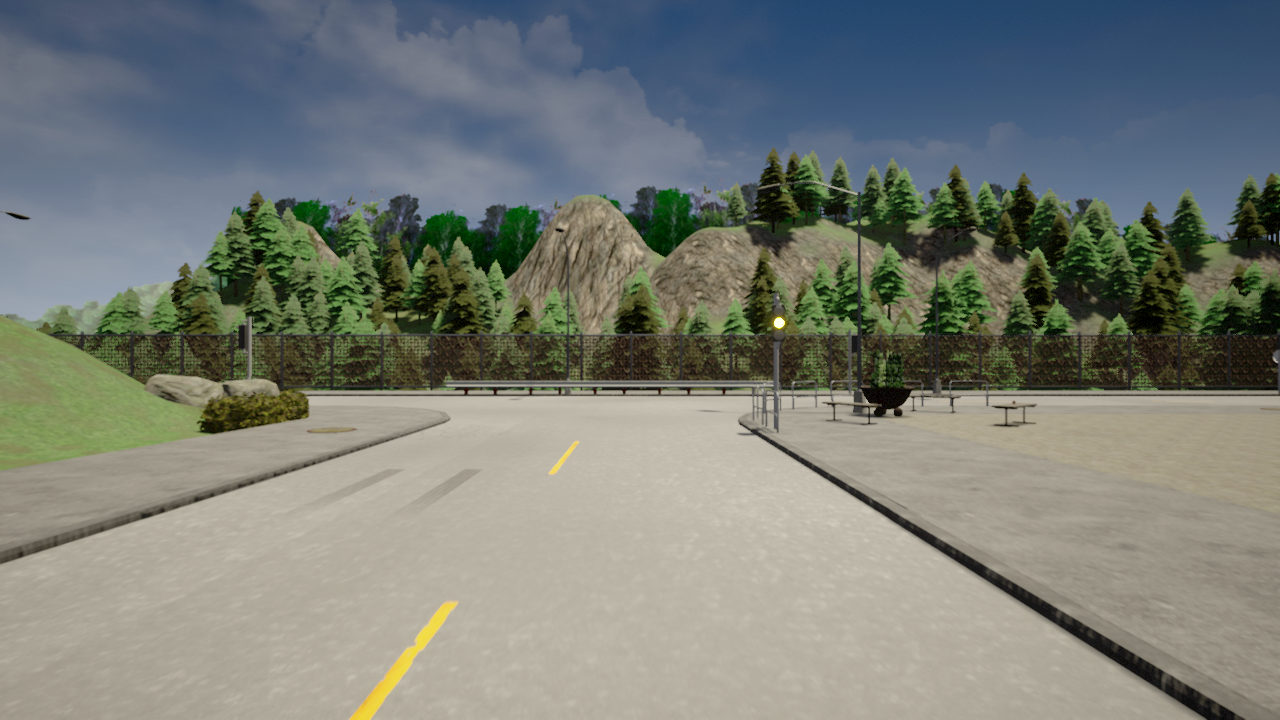yellow: (771, 305, 787, 343)
